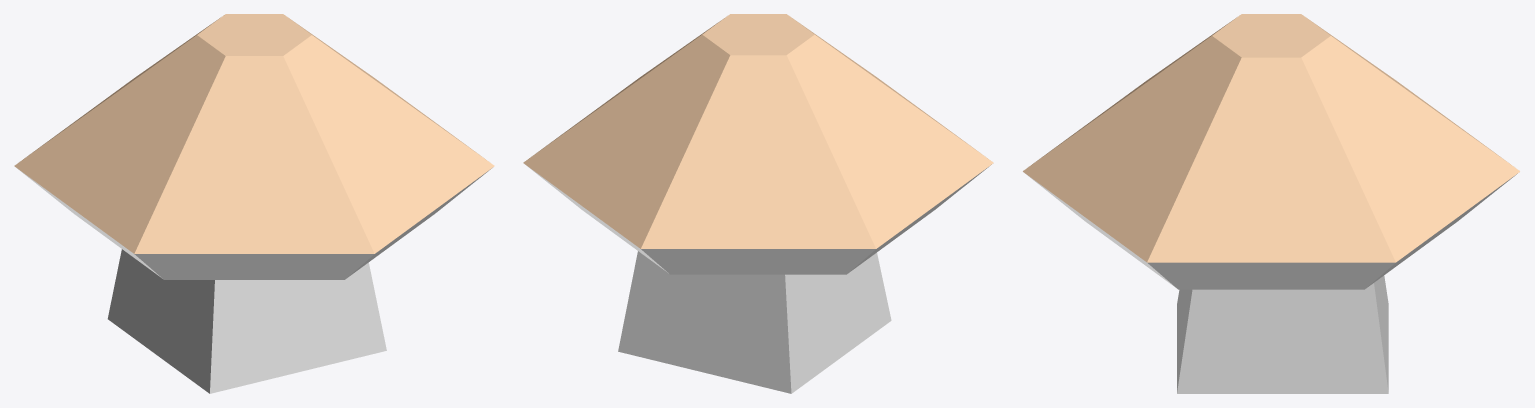
The model's file is mushroom_brown.glb.
The picture shows the model from 3 angles, left to right: view 1: azimuth 30°, elevation 25°; view 2: azimuth 150°, elevation 25°; view 3: azimuth 270°, elevation 25°; orthographic projection. The views are drawn at different scales.
Visible parts, largest first — view 1: mushroom_brown; view 2: mushroom_brown; view 3: mushroom_brown.
Boxes of the visible parts, x1,y1,x2,y2 form: mushroom_brown: (14,14,494,393); mushroom_brown: (523,14,993,393); mushroom_brown: (1023,14,1519,393).
Size of the model in its own units: 0.1914 by 0.1539 by 0.221.
